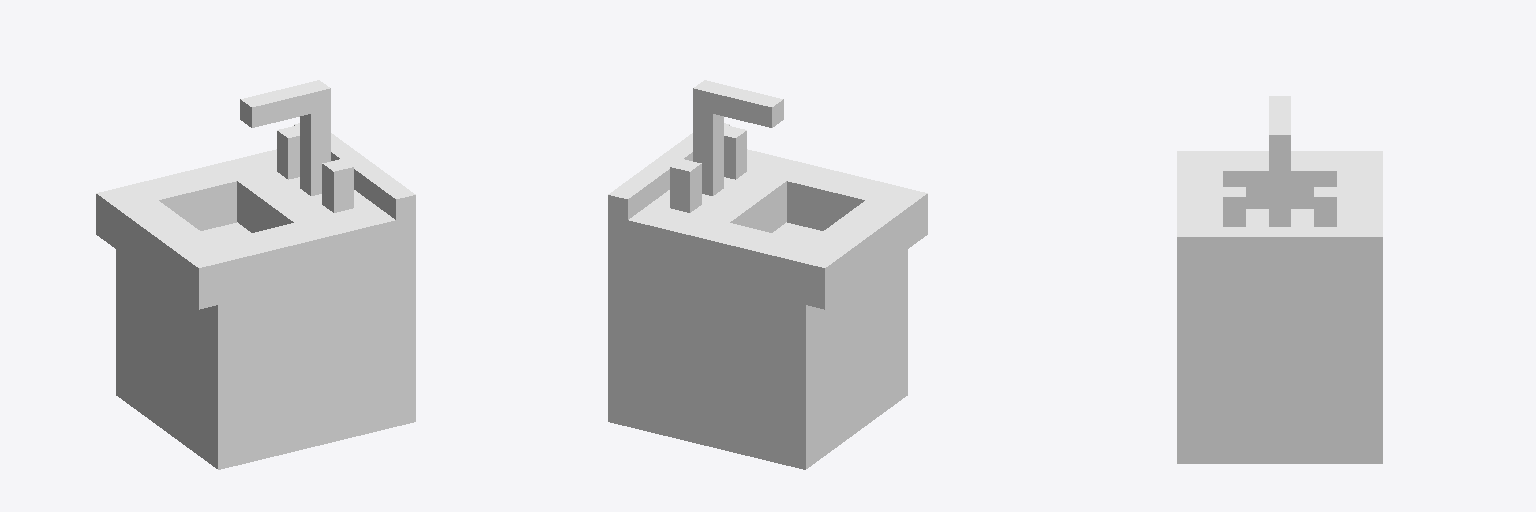
Rendered from kitchen_sink.obj.
The picture shows the model from 3 angles: view 1: azimuth 30°, elevation 25°; view 2: azimuth 150°, elevation 25°; view 3: azimuth 270°, elevation 25°; orthographic projection.
Visible parts, largest first — view 1: kitchen_sink; view 2: kitchen_sink; view 3: kitchen_sink.
Boxes of the visible parts, <box> form: kitchen_sink: <box>96,80,415,469</box>; kitchen_sink: <box>608,80,927,469</box>; kitchen_sink: <box>1177,96,1382,463</box>.
Bounding box in the file's own units: 11 × 15 × 9.